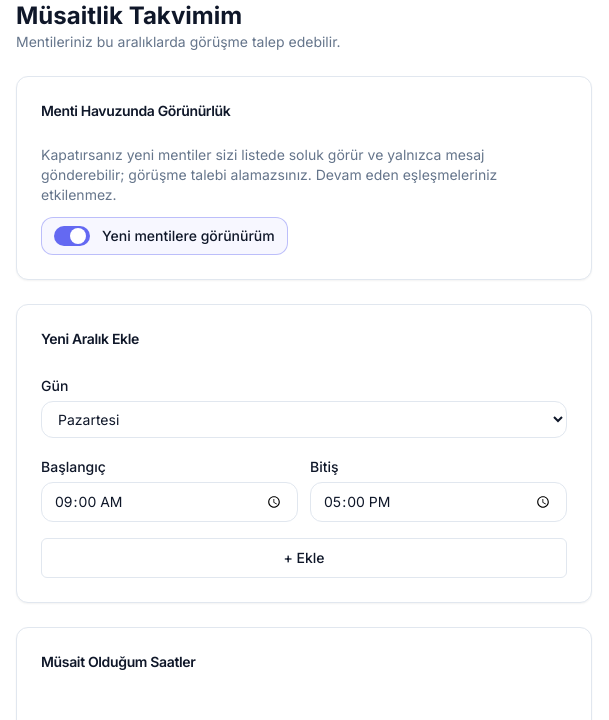
Scenario: Mentor Müsaitlik Sayfası › Blok ekleme → "müsaitlik eklenmedi" mesajı kalkar, saat aralığı görünür
Click the button "+ Ekle" at (304, 558), box [41, 538, 567, 578]
(page scrolled)
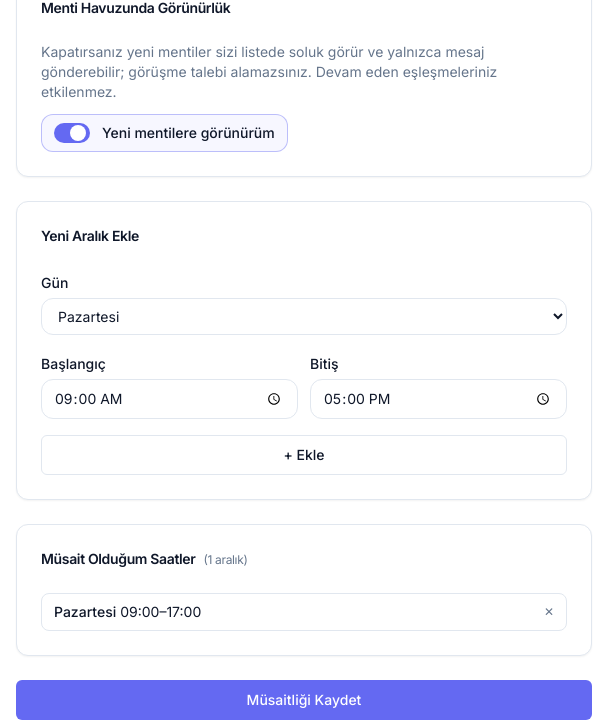
Result: the text "Pazartesi 09:00–17:00" is shown at [54, 602, 201, 622]
